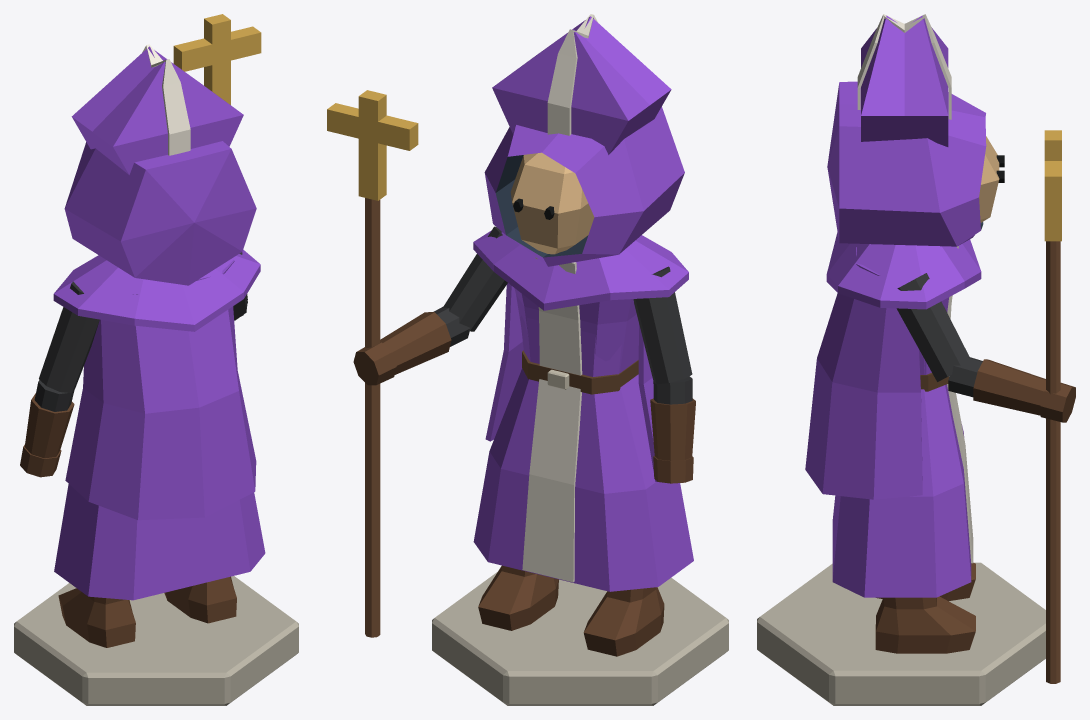
Rendered from human_cleric_t3.glb.
The picture shows the model from 3 angles, left to right: view 1: azimuth 30°, elevation 25°; view 2: azimuth 150°, elevation 25°; view 3: azimuth 270°, elevation 25°; orthographic projection. The views are drawn at different scales.
Parts seen in each view (by area): view 1: Caster_Short_Back_Cape, Foundation_Hexagonal_Stone, Caster_Open_Low_Cowl, Caster_Continuous_Long_Robe, Cleric_Plain_Deep_Mitre_Two_Front_Back_Peaks, Plain_Caster_Shoulder_Mantle, Cleric_Exactly_One_Plain_Gold_Latin_Cross, Boot_-1, left_upper_sleeve, Boot_1, Cleric_One_Connected_Front_Back_Mitre_Ribbon, left_bracer (+2 smaller); view 2: Caster_Continuous_Long_Robe, Foundation_Hexagonal_Stone, Caster_Open_Low_Cowl, Cleric_One_Broad_Front_Stole, Cleric_Plain_Deep_Mitre_Two_Front_Back_Peaks, Plain_Caster_Shoulder_Mantle, Cleric_One_Plain_Wooden_Cross_Staff_Shaft, Angular_Face, Cleric_Exactly_One_Plain_Gold_Latin_Cross, Boot_-1, Boot_1, left_upper_sleeve (+11 smaller); view 3: Foundation_Hexagonal_Stone, Caster_Short_Back_Cape, Caster_Open_Low_Cowl, Caster_Continuous_Long_Robe, Cleric_Plain_Deep_Mitre_Two_Front_Back_Peaks, Plain_Caster_Shoulder_Mantle, Cleric_One_Plain_Wooden_Cross_Staff_Shaft, Boot_1, right_upper_sleeve, right_bracer, Cleric_Exactly_One_Plain_Gold_Latin_Cross, Cleric_One_Connected_Front_Back_Mitre_Ribbon (+4 smaller).
Part boxes in pixels (x1,y1,x2,y2): Caster_Short_Back_Cape: (65,306,256,520); Foundation_Hexagonal_Stone: (14,576,298,705); Caster_Open_Low_Cowl: (64,141,256,285); Caster_Continuous_Long_Robe: (54,260,265,600); Cleric_Plain_Deep_Mitre_Two_Front_Back_Peaks: (71,46,243,174); Plain_Caster_Shoulder_Mantle: (53,249,260,331); Cleric_Exactly_One_Plain_Gold_Latin_Cross: (173,14,261,104); Boot_-1: (58,588,135,647); left_upper_sleeve: (39,281,99,393); Boot_1: (164,576,236,623); Cleric_One_Connected_Front_Back_Mitre_Ribbon: (142,44,190,155); left_bracer: (24,393,74,458); Caster_Continuous_Long_Robe: (473,240,693,591); Foundation_Hexagonal_Stone: (432,571,728,705); Caster_Open_Low_Cowl: (484,106,684,266); Cleric_One_Broad_Front_Stole: (522,257,582,582); Cleric_Plain_Deep_Mitre_Two_Front_Back_Peaks: (492,16,671,154); Plain_Caster_Shoulder_Mantle: (473,230,688,310); Cleric_One_Plain_Wooden_Cross_Staff_Shaft: (365,198,380,637); Angular_Face: (510,152,594,254); Cleric_Exactly_One_Plain_Gold_Latin_Cross: (327,90,418,200); Boot_-1: (583,587,664,656); Boot_1: (478,565,558,630); left_upper_sleeve: (633,266,692,384); Foundation_Hexagonal_Stone: (757,562,1045,705); Caster_Short_Back_Cape: (805,293,922,499); Caster_Open_Low_Cowl: (827,81,986,246); Caster_Continuous_Long_Robe: (832,247,971,597); Cleric_Plain_Deep_Mitre_Two_Front_Back_Peaks: (861,15,948,146); Plain_Caster_Shoulder_Mantle: (826,232,981,309); Cleric_One_Plain_Wooden_Cross_Staff_Shaft: (1046,241,1060,683); Boot_1: (875,596,975,653); right_upper_sleeve: (896,273,969,381); right_bracer: (973,359,1045,415); Cleric_Exactly_One_Plain_Gold_Latin_Cross: (1044,130,1061,241); Cleric_One_Connected_Front_Back_Mitre_Ribbon: (857,14,951,119).
Size of the model in its own units: 1.08 by 2.17 by 0.983.
